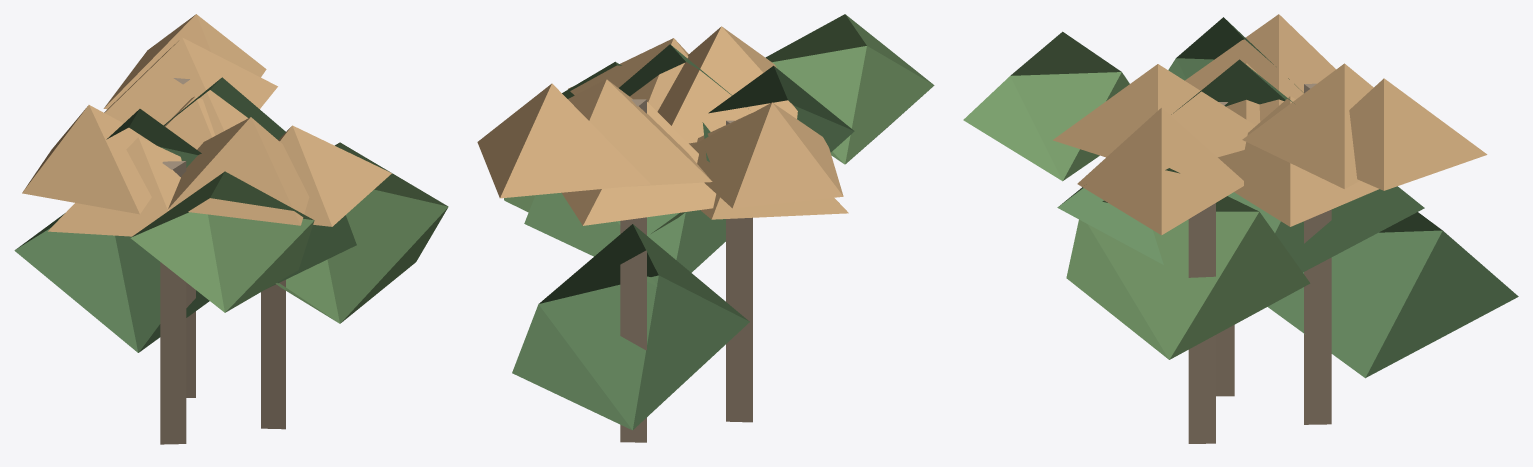
File: shrub.trop.flower_bush__spring.glb
The picture shows the model from 3 angles, left to right: view 1: azimuth 30°, elevation 25°; view 2: azimuth 150°, elevation 25°; view 3: azimuth 270°, elevation 25°; orthographic projection. The views are drawn at different scales.
Parts seen in each view (by area): view 1: shrub.trop.flower_bush__spring; view 2: shrub.trop.flower_bush__spring; view 3: shrub.trop.flower_bush__spring.
Boxes of the visible parts, x1=… form: shrub.trop.flower_bush__spring: x1=14, y1=14, x2=448, y2=444; shrub.trop.flower_bush__spring: x1=477, y1=14, x2=934, y2=442; shrub.trop.flower_bush__spring: x1=963, y1=14, x2=1518, y2=443.
Bounding box in the file's own units: 2.19 × 1.97 × 2.66.
